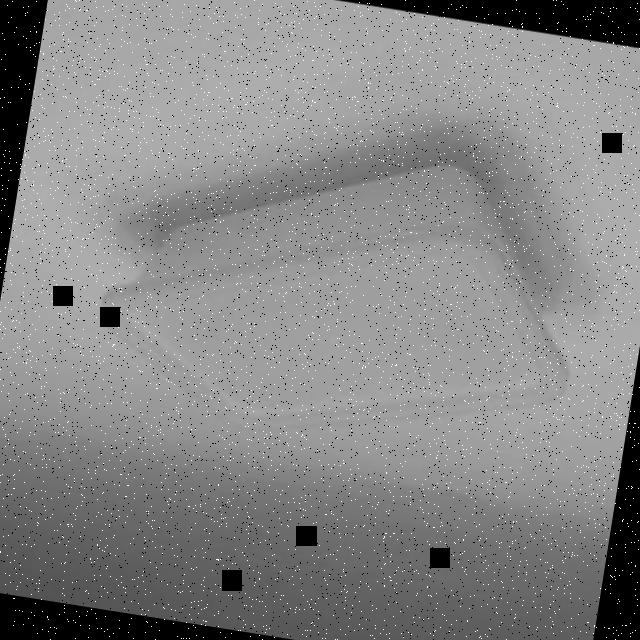plastic_box: (88, 115, 590, 476)
